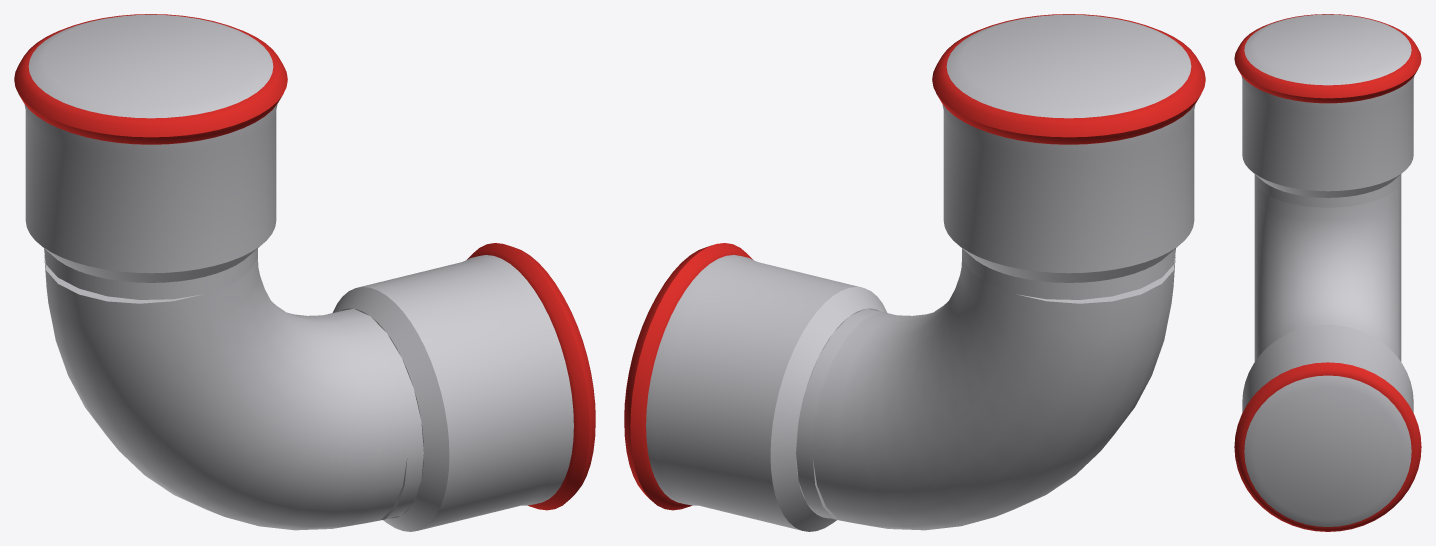
File: fitting_e90_42_r.glb
3 renders of one model, left to right at view 1: azimuth 30°, elevation 25°; view 2: azimuth 150°, elevation 25°; view 3: azimuth 270°, elevation 25°, orthographic. The views are drawn at different scales.
Parts seen in each view (by area): view 1: изгиб, раструб.001, раструб, кольцо пресс.001, кольцо пресс, корпус.001, корпус; view 2: изгиб, раструб.001, раструб, кольцо пресс.001, кольцо пресс, корпус.001, корпус; view 3: раструб, раструб.001, изгиб, кольцо пресс, кольцо пресс.001, корпус.001.
Boxes of the visible parts, <box> form: изгиб: <box>44,255,407,530</box>; раструб.001: <box>24,14,277,282</box>; раструб: <box>332,255,573,531</box>; кольцо пресс.001: <box>14,14,287,144</box>; кольцо пресс: <box>467,243,595,510</box>; корпус.001: <box>44,248,257,299</box>; корпус: <box>328,308,423,520</box>; изгиб: <box>812,255,1175,530</box>; раструб.001: <box>942,14,1195,282</box>; раструб: <box>646,255,887,531</box>; кольцо пресс.001: <box>932,14,1205,144</box>; кольцо пресс: <box>624,243,752,510</box>; корпус.001: <box>962,248,1175,299</box>; корпус: <box>796,308,891,520</box>; раструб: <box>1242,324,1413,526</box>; раструб.001: <box>1241,14,1414,197</box>; изгиб: <box>1254,179,1401,361</box>; кольцо пресс: <box>1234,362,1421,531</box>; кольцо пресс.001: <box>1234,14,1421,103</box>; корпус.001: <box>1254,174,1401,207</box>.
Bounding box in the file's own units: 0.1226 × 0.1226 × 0.0573.
